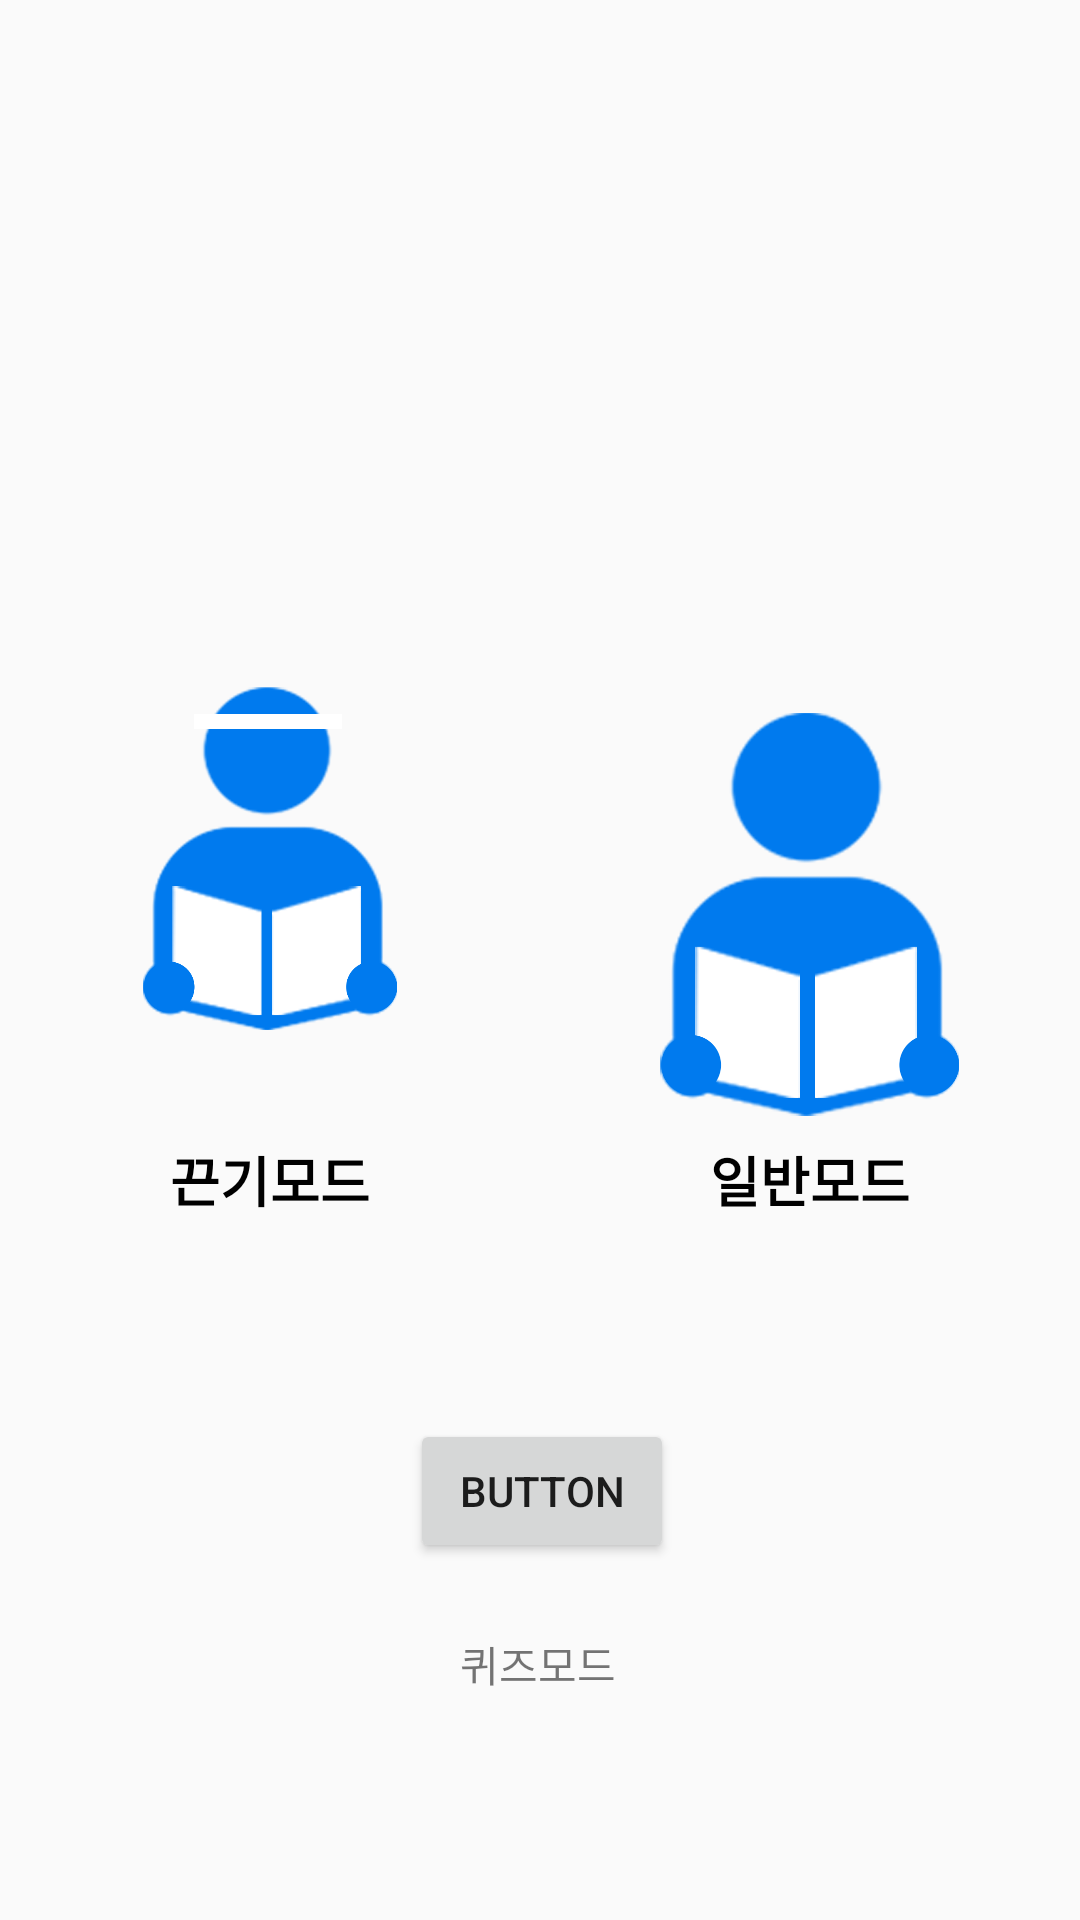

Named icons in this screenshot (1080px×1920px) and their bounding boxes, (x1=x1, y1=y1, x2=x2, y2=y2):
effortmode: (x1=143, y1=687, x2=397, y2=1030)
